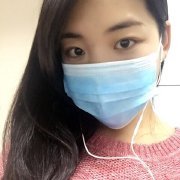face_mask: (62, 1, 157, 126)
